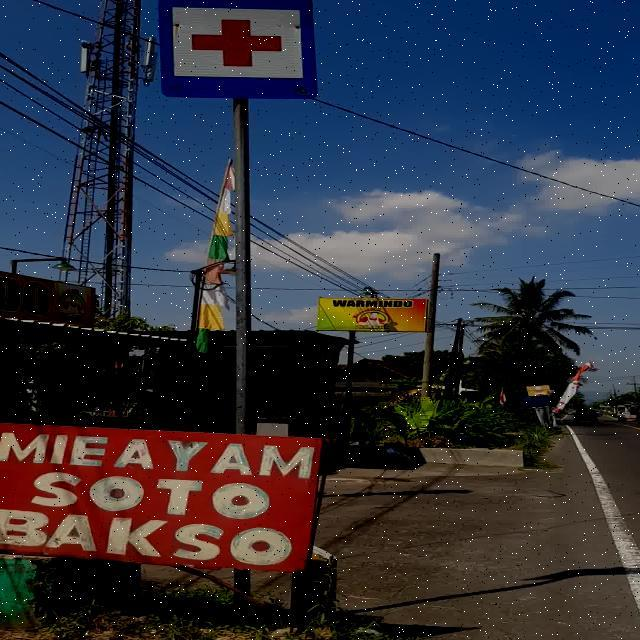Balai Pertolongan Pertama: (158, 1, 318, 100)
